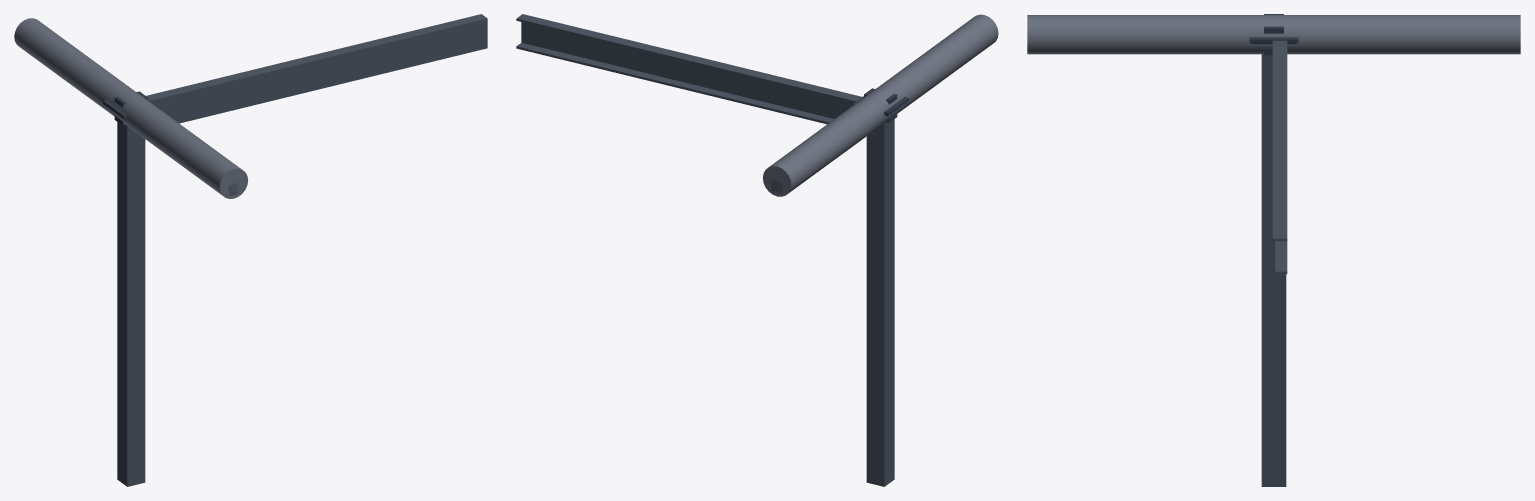
File: conveyor_frame.glb
The picture shows the model from 3 angles, left to right: view 1: azimuth 30°, elevation 25°; view 2: azimuth 150°, elevation 25°; view 3: azimuth 270°, elevation 25°; orthographic projection. The views are drawn at different scales.
Parts seen in each view (by area): view 1: rail, leg, drum; view 2: rail, leg, drum; view 3: drum, leg, rail.
Boxes of the visible parts, <box> form: rail: <box>146,14,487,123</box>; leg: <box>117,122,145,486</box>; drum: <box>14,18,248,198</box>; rail: <box>516,14,875,135</box>; leg: <box>866,119,894,486</box>; drum: <box>763,14,998,196</box>; drum: <box>1027,15,1520,54</box>; leg: <box>1261,53,1286,486</box>; rail: <box>1272,40,1287,274</box>.
Bounding box in the file's own units: 1.05 × 1.04 × 1.
